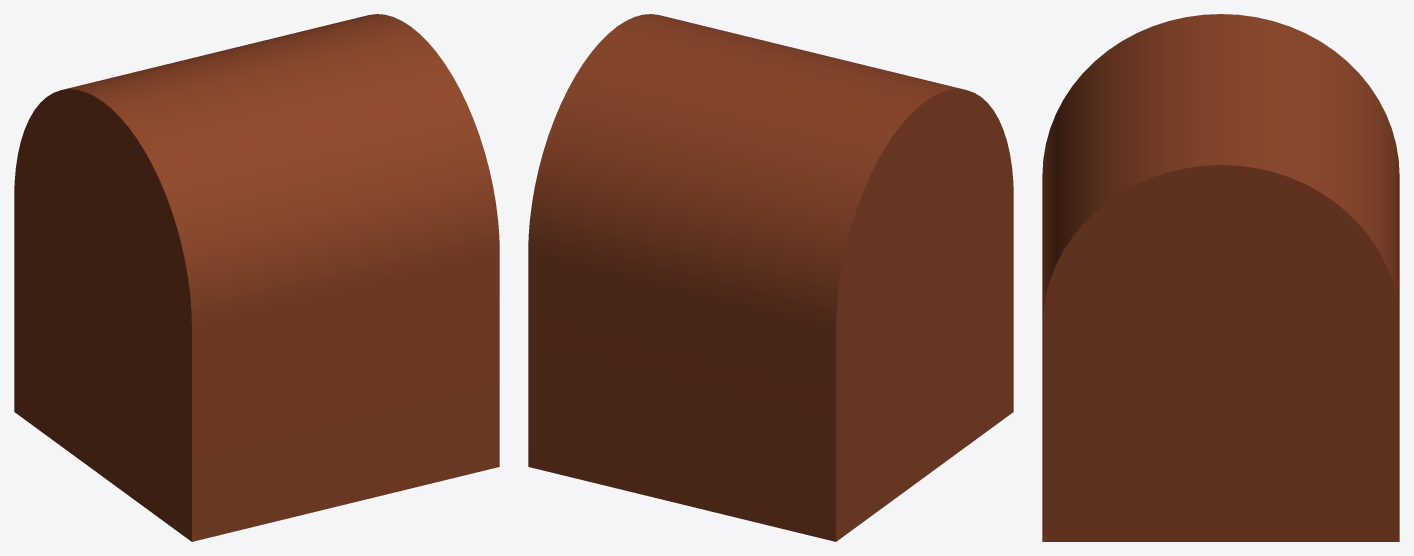
3 renders of one model, left to right at view 1: azimuth 30°, elevation 25°; view 2: azimuth 150°, elevation 25°; view 3: azimuth 270°, elevation 25°, orthographic.
Parts seen in each view (by area): view 1: arched_block; view 2: arched_block; view 3: arched_block.
Part boxes in pixels (x1,y1,x2,y2): arched_block: (14, 14, 499, 541); arched_block: (528, 14, 1013, 541); arched_block: (1042, 14, 1399, 541).
Bounding box in the file's own units: 0.4294 × 0.5 × 0.4294.
